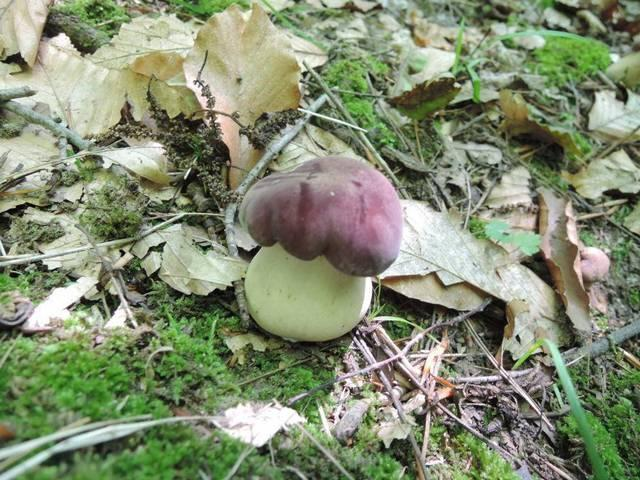poisonous_mushroom: (237, 154, 404, 343)
